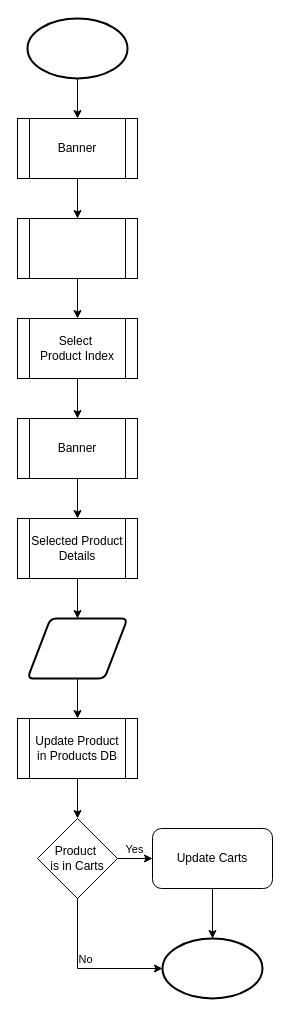
Image size: 290x1016. Some labels were removed from this diagram. Each missing label, with the box of its shape:
Display Products: (16, 218, 138, 278)
END: (161, 937, 263, 999)
Name, Stock, Price: (26, 617, 128, 679)
START: (26, 17, 128, 79)
